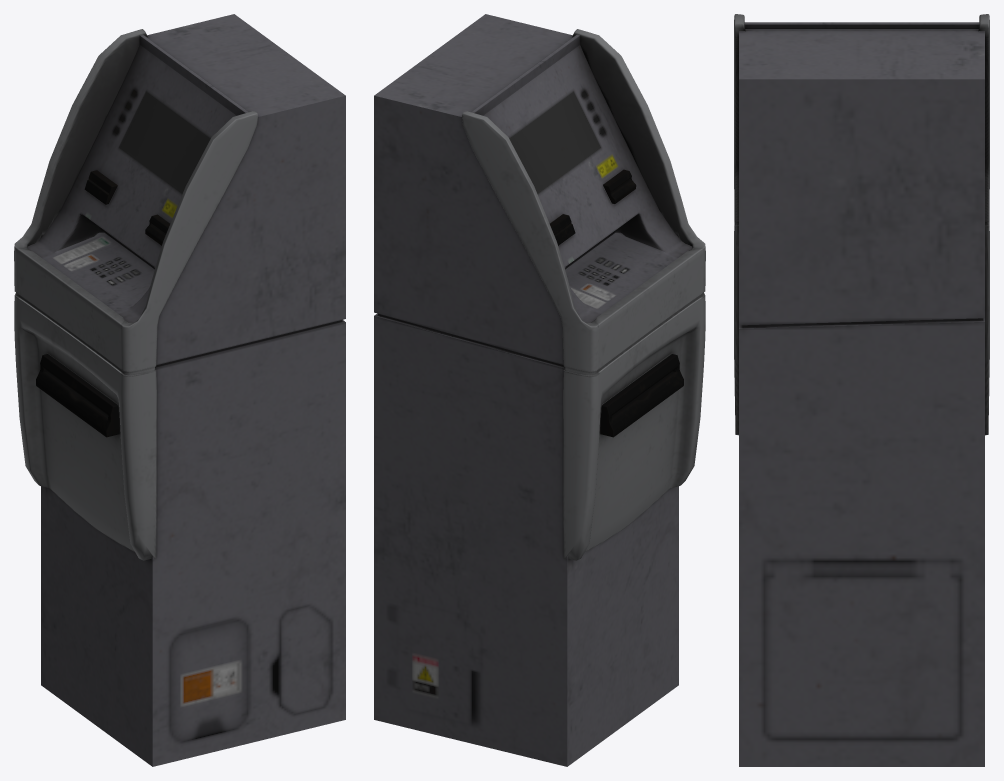
Rendered from ATM.fbx.
3 renders of one model, left to right at view 1: azimuth 30°, elevation 25°; view 2: azimuth 150°, elevation 25°; view 3: azimuth 270°, elevation 25°, orthographic. The views are drawn at different scales.
Visible parts, largest first — view 1: ATM; view 2: ATM; view 3: ATM.
Boxes of the visible parts, bbox=[...] form: ATM: bbox=[14, 14, 345, 766]; ATM: bbox=[374, 14, 705, 766]; ATM: bbox=[734, 14, 989, 766].
Bounding box in the file's own units: 51.3 × 139 × 46.62.
1 material, 1 textured.
